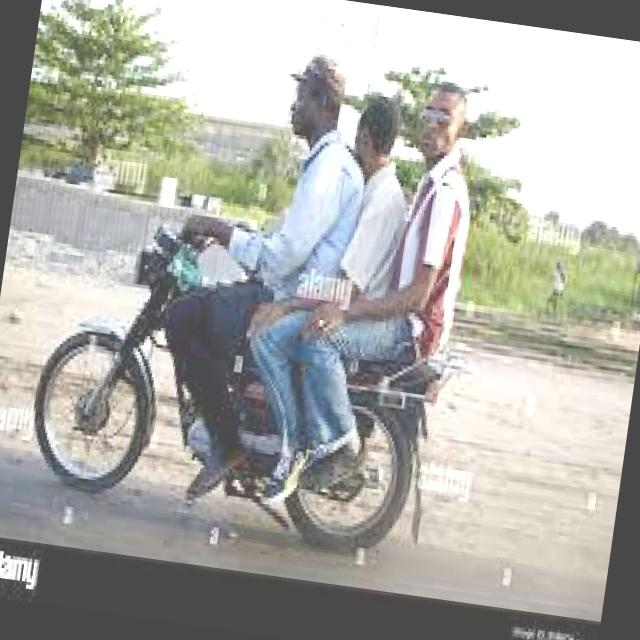motorcycle: (7, 188, 486, 575)
person: (242, 39, 399, 390), (366, 65, 516, 417), (292, 90, 448, 393)
rider_region: (16, 21, 494, 552)
